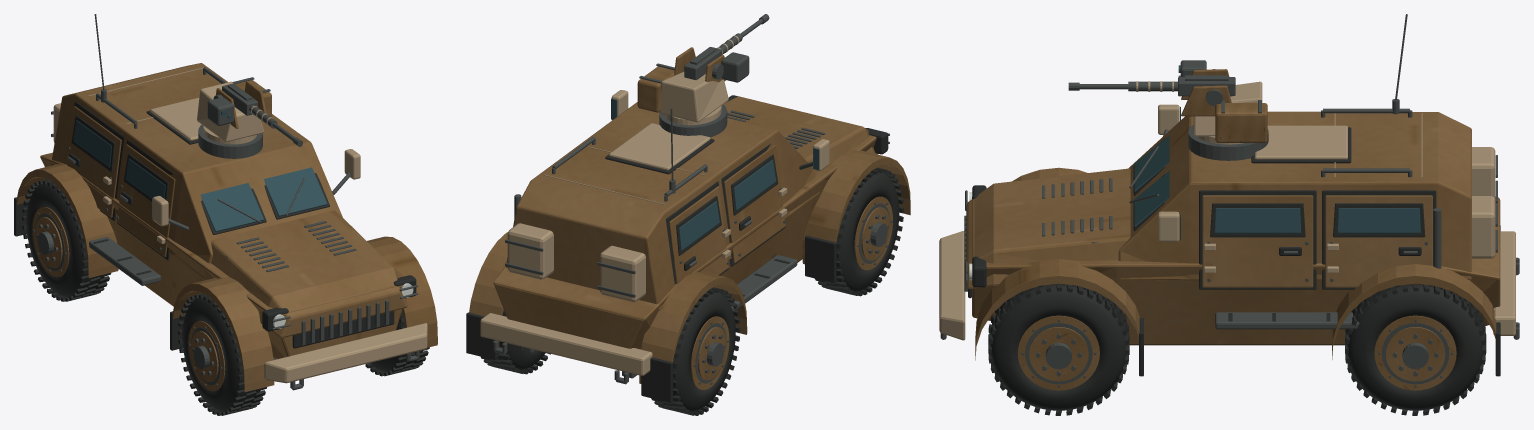
Rendered from armored-scout.glb.
The picture shows the model from 3 angles, left to right: view 1: azimuth 30°, elevation 25°; view 2: azimuth 150°, elevation 25°; view 3: azimuth 270°, elevation 25°; orthographic projection. The views are drawn at different scales.
Visible parts, largest first — view 1: hull, wheels_FL, wheels_RL, turret, barrel, wheels_FR; view 2: hull, wheels_FL, wheels_RL, turret, wheels_RR, barrel; view 3: hull, wheels_FR, wheels_RR, turret, barrel.
Boxes of the visible parts, x1,y1,x2,y2 form: hull: [14, 14, 437, 392]; wheels_FL: [178, 293, 266, 415]; wheels_RL: [22, 179, 111, 301]; turret: [197, 77, 271, 158]; barrel: [222, 83, 302, 146]; wheels_FR: [365, 310, 429, 376]; hull: [466, 90, 910, 402]; wheels_FL: [814, 167, 903, 296]; wheels_RL: [651, 287, 740, 415]; turret: [637, 47, 749, 137]; wheels_RR: [481, 310, 550, 374]; barrel: [684, 14, 769, 79]; hull: [939, 14, 1519, 376]; wheels_FR: [988, 284, 1129, 415]; wheels_RR: [1345, 284, 1486, 415]; turret: [1178, 60, 1268, 160]; barrel: [1068, 75, 1235, 96].
Bounding box in the file's own units: 2.56 × 3.21 × 5.34.
7 materials, 1 textured.
